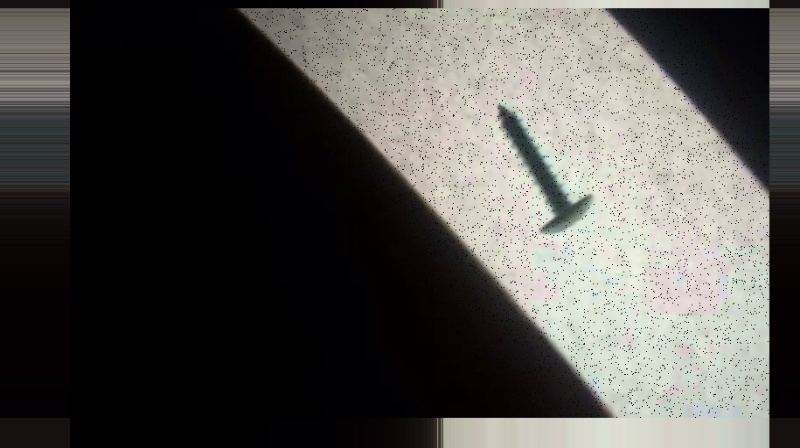S003: (493, 100, 595, 238)
